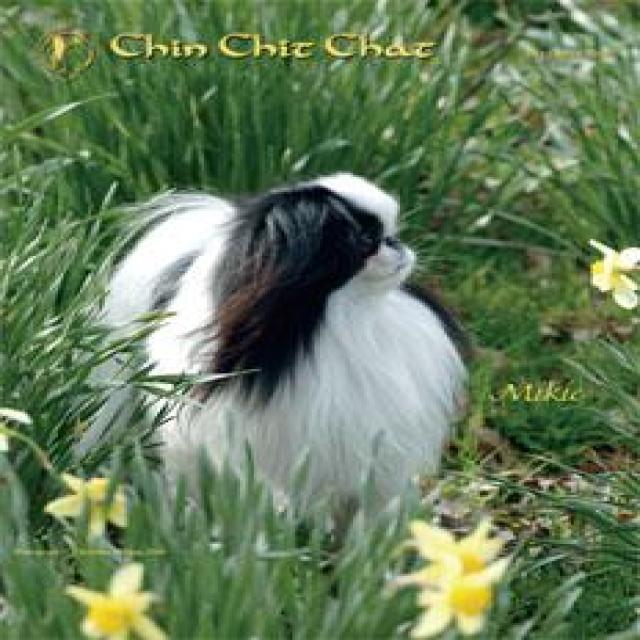husky: (83, 170, 463, 568)
